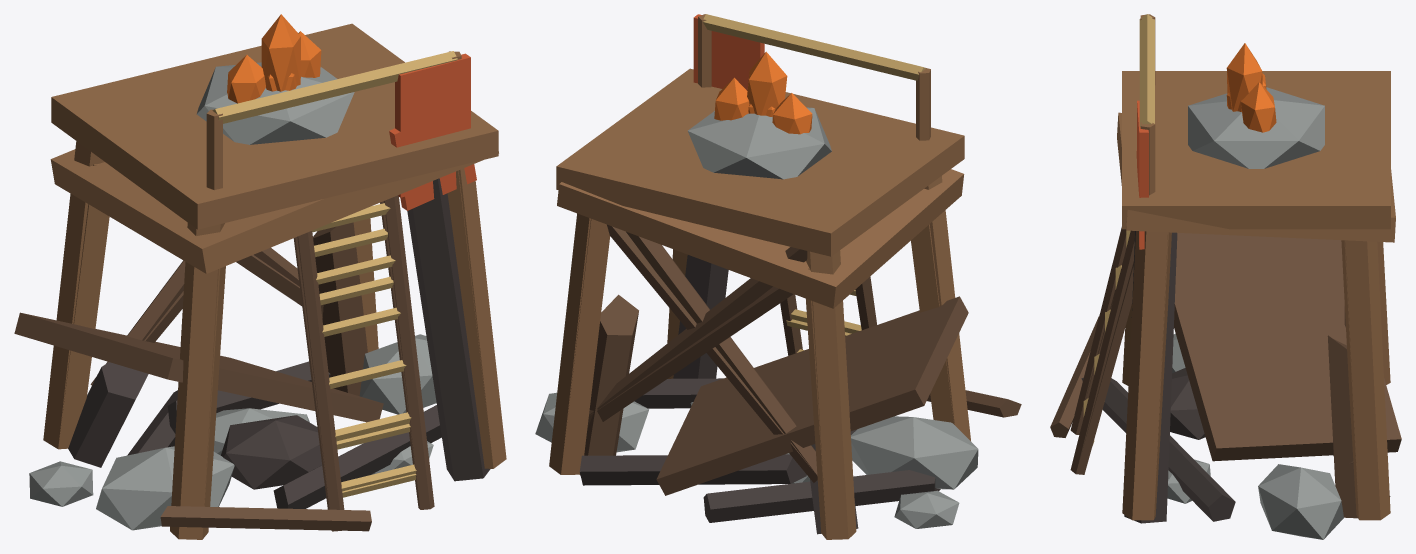
The model's file is ridge_signal_tower.glb.
3 views of the same model, side by side, from view 1: azimuth 30°, elevation 25°; view 2: azimuth 150°, elevation 25°; view 3: azimuth 270°, elevation 25° (orthographic). The views are drawn at different scales.
Visible parts, largest first — view 1: Stage_Intact, Stage_Damaged, Stage_Critical, Stage_Rubble; view 2: Stage_Intact, Stage_Damaged, Stage_Critical, Stage_Rubble; view 3: Stage_Intact, Stage_Critical, Stage_Damaged, Stage_Rubble.
Boxes of the visible parts, x1,y1,x2,y2 form: Stage_Intact: (29,14,506,539); Stage_Damaged: (50,66,498,539); Stage_Critical: (14,178,490,489); Stage_Rubble: (127,361,441,508); Stage_Intact: (535,14,978,539); Stage_Damaged: (557,44,1021,539); Stage_Critical: (580,255,968,534); Stage_Rubble: (579,378,940,522); Stage_Intact: (1070,14,1390,539); Stage_Critical: (1124,231,1401,523); Stage_Damaged: (1050,92,1395,519); Stage_Rubble: (1081,377,1390,521).
Size of what is drawn, in the model's own units: 3.23 by 3.25 by 2.45.
